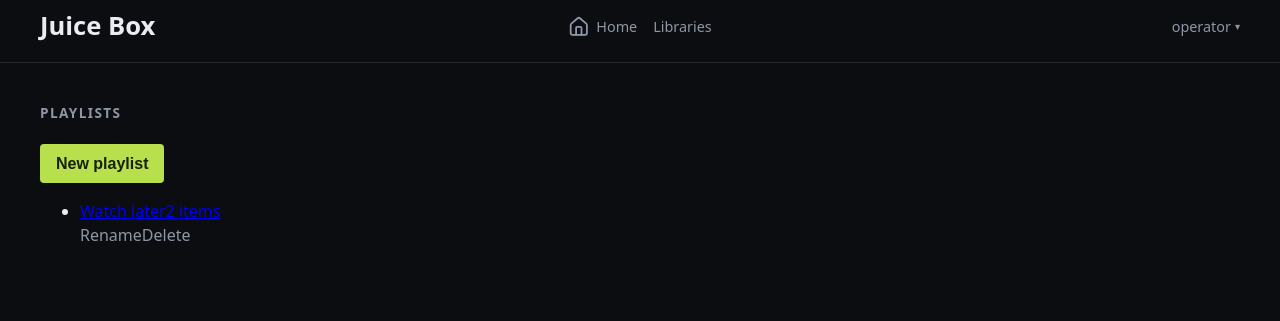
Test: PlaylistsScreen › surfaces a failed rename inline and keeps the editor (no crash)
Expected: the list with test id "playlists" is shown, x1=80 y1=200 x2=220 y2=247
Click the button with test id "rename-playlist-button". click: (111, 235)
box: x1=80 y1=223 x2=142 y2=247
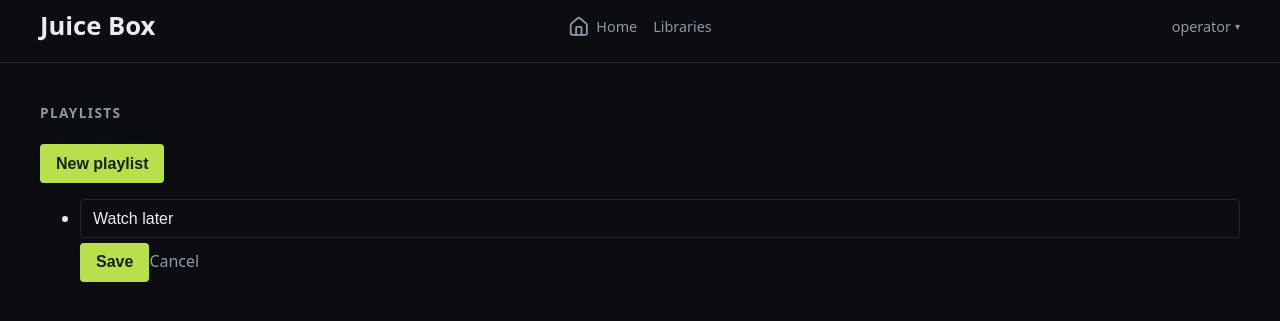
Replace the text in the field with test id "rename-playlist-input" with "x". click: (660, 219)
box: x1=80 y1=199 x2=1240 y2=238
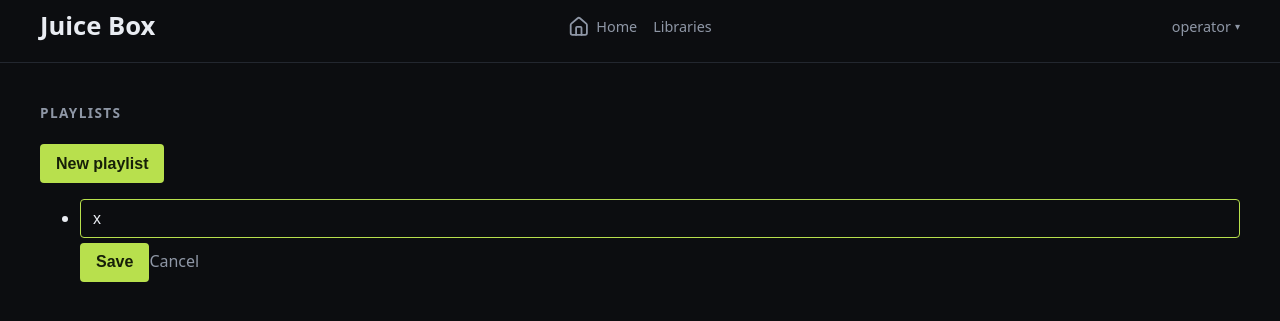
Click the button with test id "save-playlist-button". click: (115, 262)
box: x1=80 y1=243 x2=149 y2=282
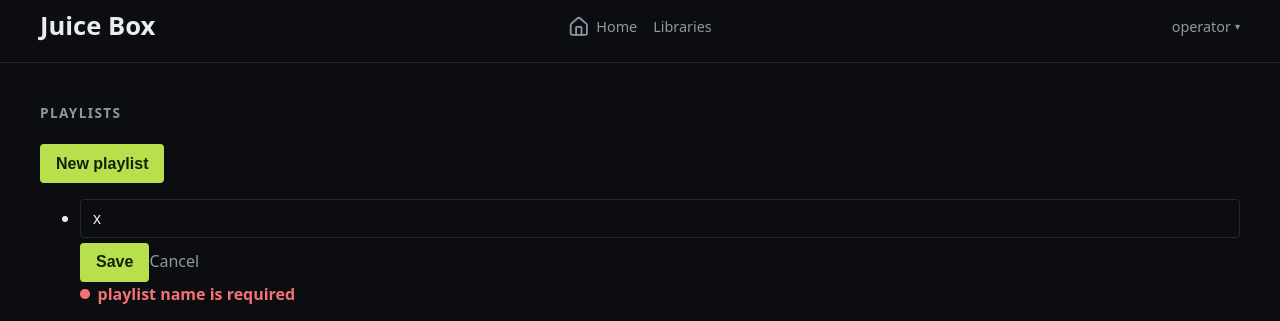
Expected: the element with test id "playlist-rename-form" is shown, x1=80 y1=199 x2=1240 y2=282
Expected: the message with test id "rename-playlist-error" shows "required", x1=98 y1=283 x2=295 y2=305
